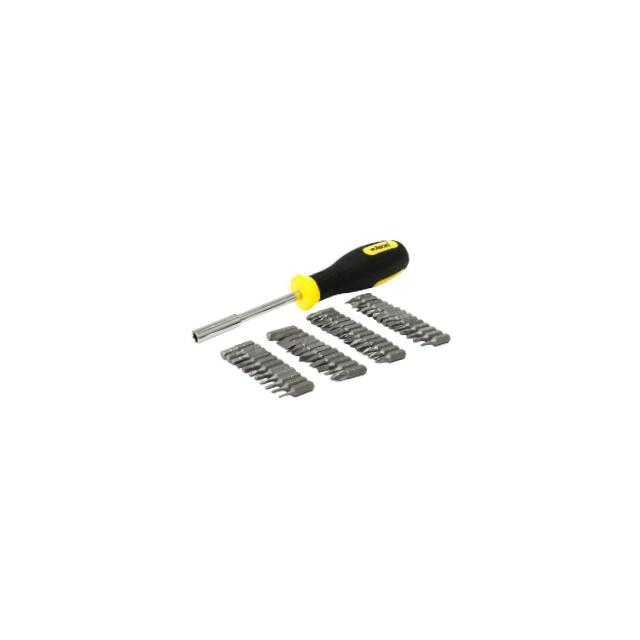screwdriver: (187, 237, 415, 346)
